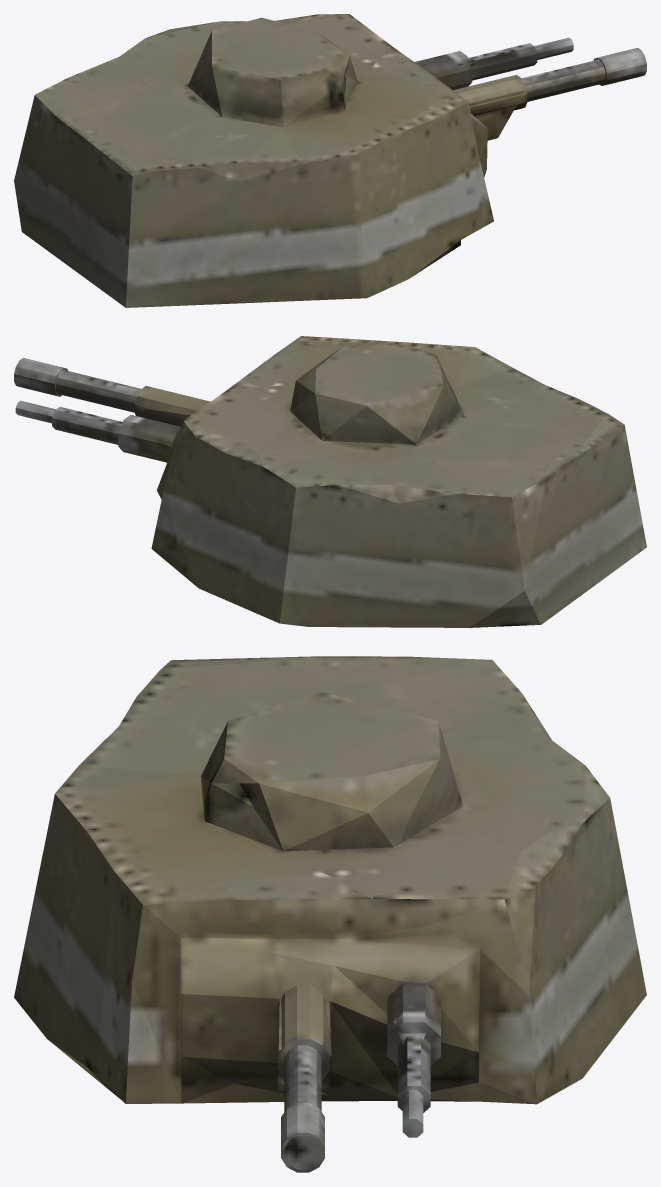
Rendered from turret.obj.
3 views of the same model, one above another, from view 1: azimuth 30°, elevation 25°; view 2: azimuth 150°, elevation 25°; view 3: azimuth 270°, elevation 25° (orthographic). The views are drawn at different scales.
Size of the model in its own units: 0.5199 by 0.155 by 0.3279.
Materials: 1 (1 with a texture image).
